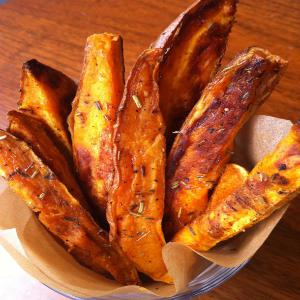fries_350cal: (12, 18, 296, 284)
